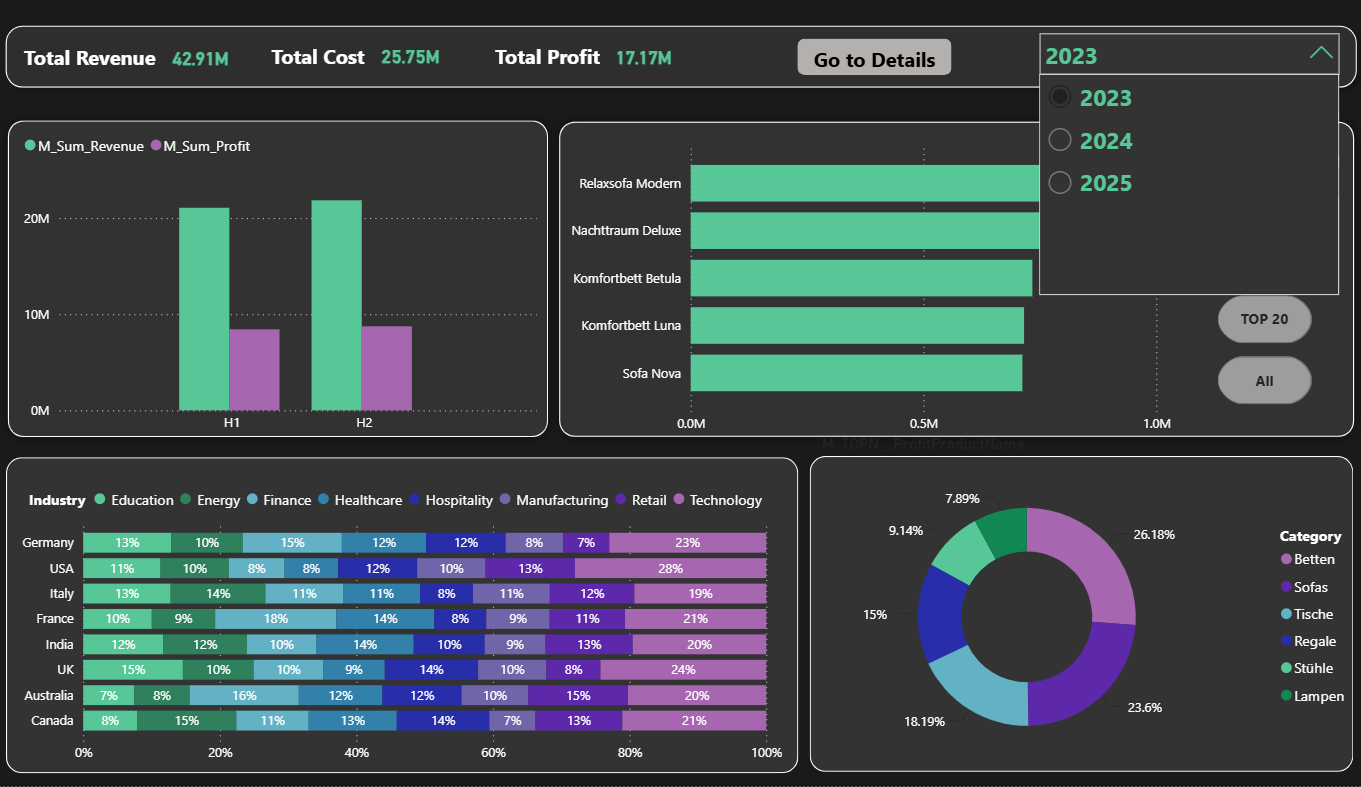

What the dashboard file says about the page in this screenshot:
{"tool":"powerbi","page":{"name":"Header","canvas":[1280,720],"ordinal":0},"visuals":[{"type":"shape","box":[9.1,411.5,739.9,295],"z":0},{"type":"shape","box":[1.4,87.1,524.3,315.7],"z":1000},{"type":"shape","box":[516.3,88.6,762.3,314.3],"z":2000},{"type":"shape","box":[759.5,411.4,507.6,294.9],"z":3000},{"type":"shape","box":[0,0,1279.8,75.9],"z":4000},{"type":"card","fields":{"Values":["ListOfMeasures.M_Sum_Cost"]},"box":[339.9,19.2,95,40.6],"z":5000},{"type":"card","fields":{"Values":["ListOfMeasures.M_Sum_Profit"]},"box":[546,16.5,117.2,47.2],"z":6000},{"type":"card","fields":{"Values":["ListOfMeasures.M_Sum_Revenue"]},"box":[138.2,22,106.7,36.7],"z":7000},{"type":"textbox","box":[252.7,20.1,122.5,40],"z":8000},{"type":"textbox","box":[21.5,20.5,140.5,37.2],"z":9000},{"type":"textbox","box":[461,20.1,122.5,40],"z":10000},{"type":"clusteredColumnChart","fields":{"Y":["ListOfMeasures.M_Sum_Revenue","ListOfMeasures.M_Sum_Profit"],"Category":["DimDate.HalfYearName Hierarchy.HalfYearName","DimDate.HalfYearName Hierarchy.QuarterName","DimDate.HalfYearName Hierarchy.MonthName"]},"box":[21.4,99.8,489,297.8],"z":11000},{"type":"clusteredBarChart","fields":{"Category":["DimProduct.ProductName"],"Y":["ListOfMeasures.M_TOPN__ProfitProductName"]},"box":[522.8,108.9,579.8,303.8],"z":12000},{"type":"hundredPercentStackedBarChart","fields":{"Category":["DimCustomers.Country"],"Y":["ListOfMeasures.M_Sum_Revenue"],"Series":["DimCustomers.Industry"]},"box":[12.1,431.2,727.8,275.4],"z":13000},{"type":"donutChart","fields":{"Category":["DimProduct.Category"],"Y":["ListOfMeasures.M_Sum_Profit"]},"box":[721.2,422,558.8,277.5],"z":14000},{"type":"slicer","fields":{"Values":["DimDate.Year_Date"]},"box":[963.8,6.3,300,55.7],"z":15000},{"type":"advancedSlicerVisual","fields":{"Values":["TopTBL.Value"]},"box":[1145.6,100,100,220.3],"z":16000},{"type":"actionButton","box":[748.1,21.5,144.3,34.2],"z":17000}]}

Visuals, with their boxes in screenshot pixels (x1, y1, x2, y2), scaled from the page's 1280x720 canvas onto the 1361x787 screenshot:
shape: x1=10, y1=450, x2=796, y2=772
shape: x1=1, y1=95, x2=559, y2=440
shape: x1=549, y1=97, x2=1360, y2=440
shape: x1=808, y1=450, x2=1347, y2=772
shape: x1=0, y1=0, x2=1360, y2=83
card - ListOfMeasures.M_Sum_Cost: x1=361, y1=21, x2=462, y2=65
card - ListOfMeasures.M_Sum_Profit: x1=581, y1=18, x2=705, y2=70
card - ListOfMeasures.M_Sum_Revenue: x1=147, y1=24, x2=260, y2=64
textbox: x1=269, y1=22, x2=399, y2=66
textbox: x1=23, y1=22, x2=172, y2=63
textbox: x1=490, y1=22, x2=620, y2=66
clusteredColumnChart - ListOfMeasures.M_Sum_Revenue x ListOfMeasures.M_Sum_Profit: x1=23, y1=109, x2=543, y2=435
clusteredBarChart - DimProduct.ProductName x ListOfMeasures.M_TOPN__ProfitProductName: x1=556, y1=119, x2=1172, y2=451
hundredPercentStackedBarChart - DimCustomers.Country x ListOfMeasures.M_Sum_Revenue: x1=13, y1=471, x2=787, y2=772
donutChart - DimProduct.Category x ListOfMeasures.M_Sum_Profit: x1=767, y1=461, x2=1360, y2=765
slicer - DimDate.Year_Date: x1=1025, y1=7, x2=1344, y2=68
advancedSlicerVisual - TopTBL.Value: x1=1218, y1=109, x2=1324, y2=350
actionButton: x1=795, y1=24, x2=949, y2=61
